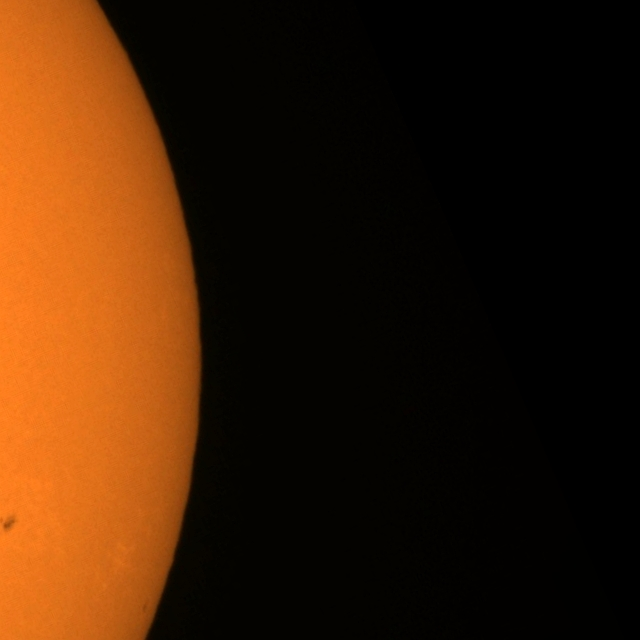sunspot: (0, 514, 19, 534)
